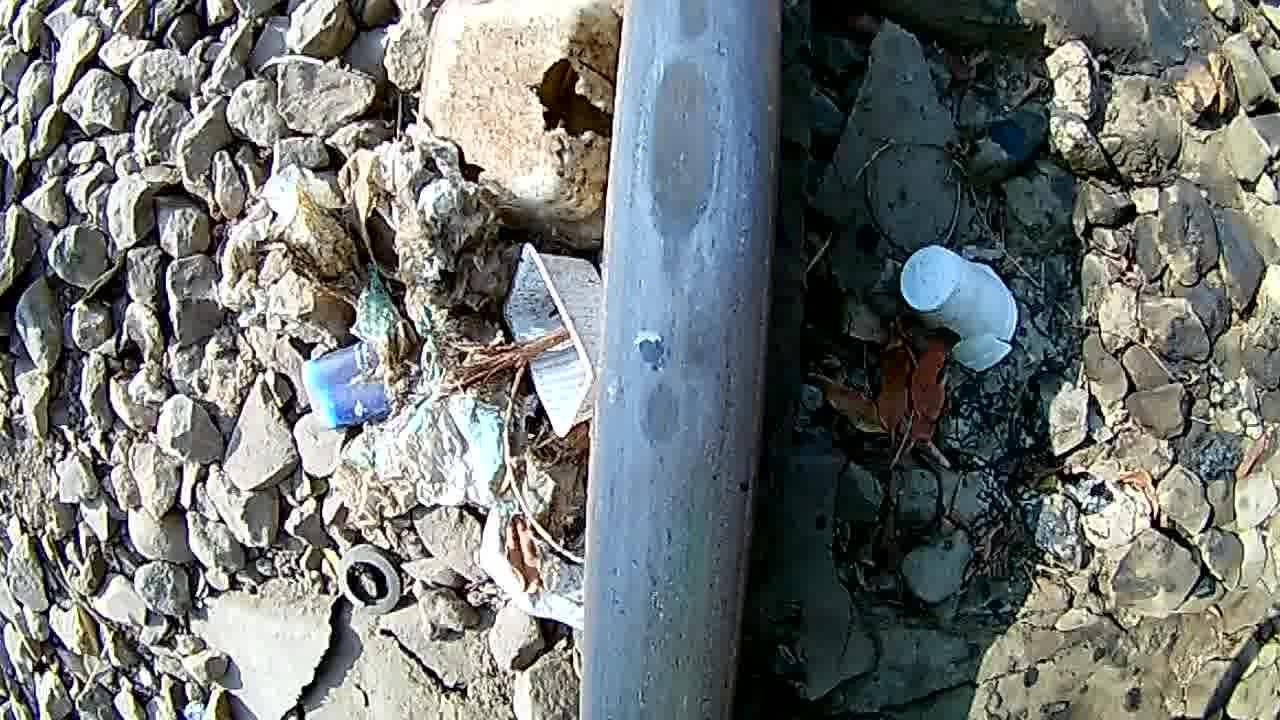crack: (618, 0, 774, 467)
